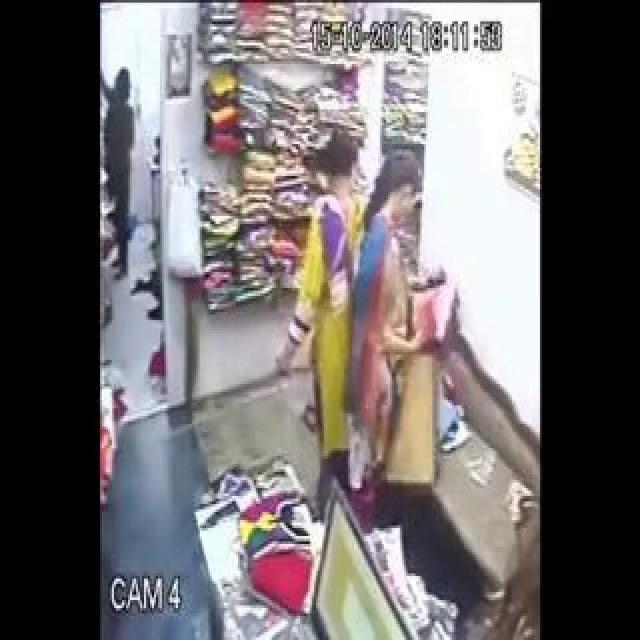Shoplifting: (361, 145, 461, 500)
